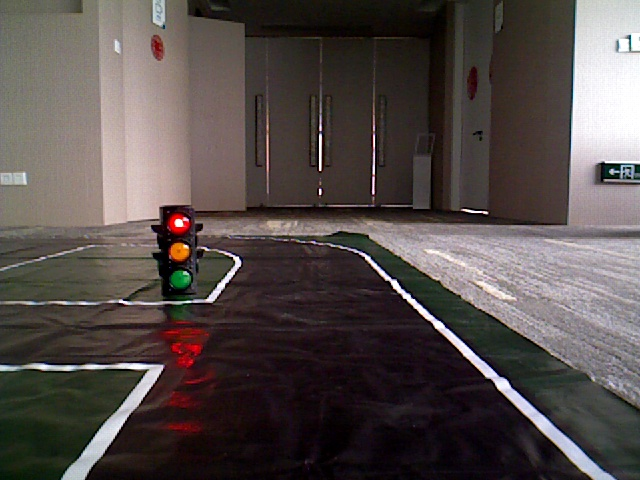red: (163, 209, 193, 285)
